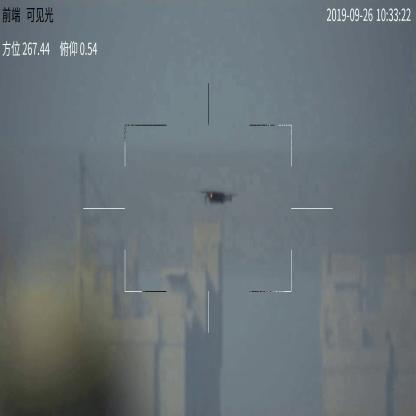uav: (199, 188, 237, 206)
